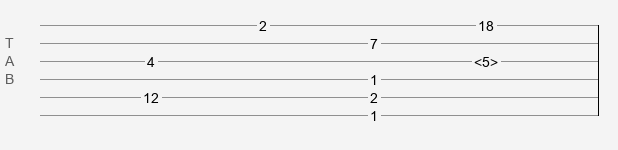1: (370, 72, 378, 82), (370, 108, 378, 118)
12: (143, 90, 159, 100)
18: (478, 18, 494, 28)
2: (259, 18, 267, 28), (370, 90, 378, 100)
4: (147, 54, 155, 64)
7: (370, 36, 378, 46)
harmonic: (474, 54, 498, 64)
